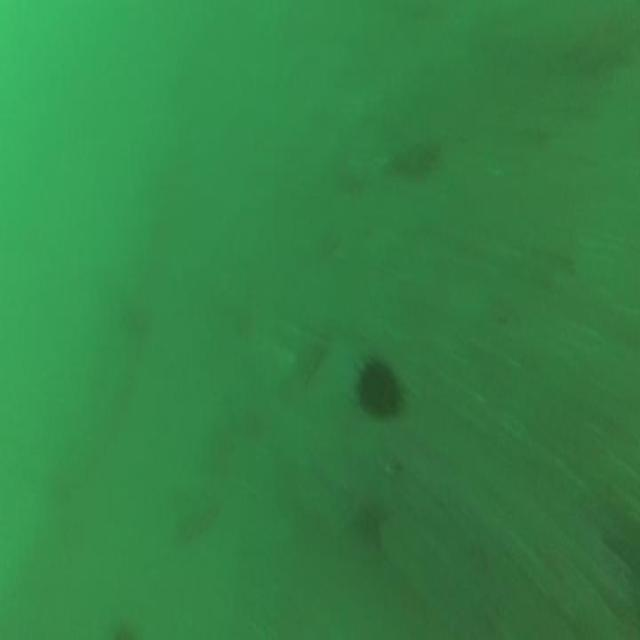echinus: (351, 348, 410, 428)
